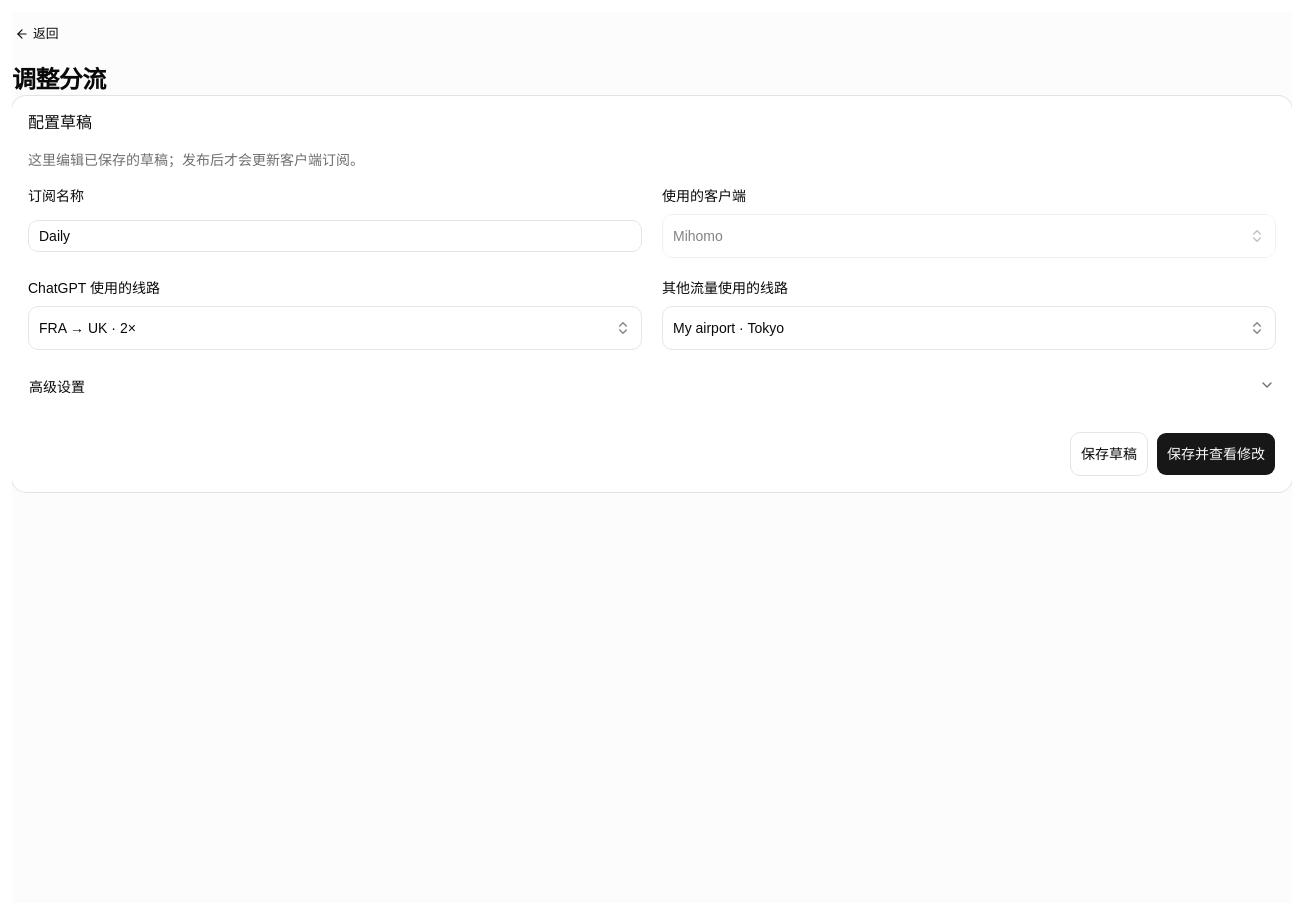
Test: shows the frozen published route beside the candidate before publishing a basic update
Expected: the dropdown named "ChatGPT 使用的线路" is shown, [28,306,642,350]
Step 1. Click the button "保存并查看修改" → (1216, 454), box [1156,432,1276,476]
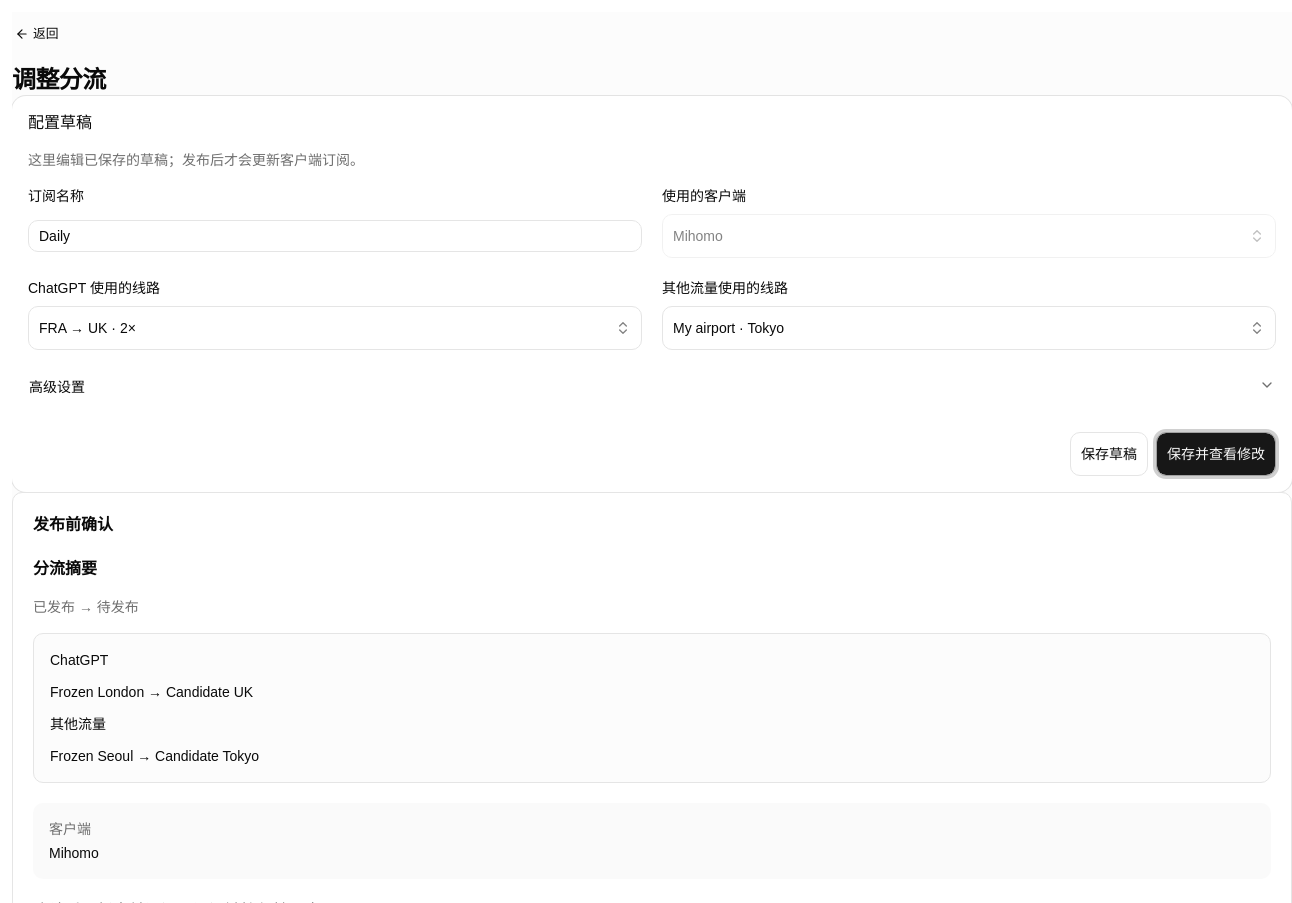
Result: the text "Frozen London → Candidate UK" is shown at [50,684,253,700]
Result: the text "Frozen Seoul → Candidate Tokyo" is shown at [50,748,259,764]
